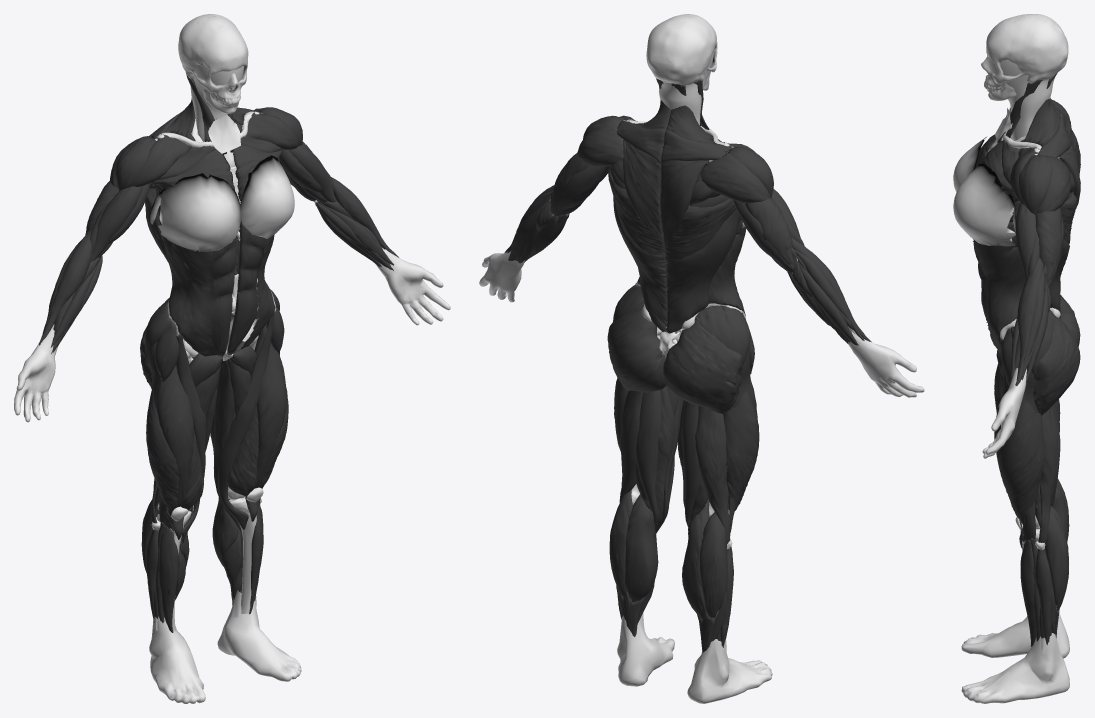
File: corpo-f-6.glb
3 renders of one model, left to right at view 1: azimuth 30°, elevation 25°; view 2: azimuth 150°, elevation 25°; view 3: azimuth 270°, elevation 25°, orthographic.
Visible parts, largest first — view 1: pele, deco, mama, quad_reto_femoral, obliquos, osso, adutores, antebraco_flexores, quad_vasto_lateral, ombro_frontal, antebraco_braquiorradial, quad_vasto_medial (+16 smaller); view 2: pele, gluteo_maximo, panturrilha_gastro, isquio_semitendineo, dorsal_inferior, trapezio_inferior, isquio_biceps_femoral, dorsal_superior, osso, antebraco_extensores, ombro_posterior, quad_vasto_lateral (+13 smaller); view 3: pele, osso, mama, deco, quad_vasto_lateral, obliquos, gluteo_maximo, panturrilha_gastro, isquio_biceps_femoral, cabeca, ombro_lateral, triceps_lateral (+22 smaller).
Boxes of the visible parts, x1,y1,x2,y2 form: pele: [14, 249, 450, 703]; deco: [146, 73, 279, 632]; mama: [150, 155, 294, 251]; quad_reto_femoral: [156, 324, 286, 539]; obliquos: [163, 234, 275, 356]; osso: [178, 14, 248, 113]; adutores: [182, 341, 256, 544]; antebraco_flexores: [50, 200, 393, 353]; quad_vasto_lateral: [146, 387, 288, 517]; ombro_frontal: [131, 111, 298, 186]; antebraco_braquiorradial: [39, 177, 398, 345]; quad_vasto_medial: [181, 406, 258, 512]; pele: [479, 251, 924, 703]; gluteo_maximo: [607, 304, 742, 414]; panturrilha_gastro: [609, 489, 727, 618]; isquio_semitendineo: [635, 386, 708, 529]; dorsal_inferior: [619, 228, 730, 333]; trapezio_inferior: [623, 140, 709, 249]; isquio_biceps_femoral: [619, 390, 730, 543]; dorsal_superior: [608, 166, 740, 257]; osso: [646, 14, 717, 90]; antebraco_extensores: [507, 191, 864, 345]; ombro_posterior: [577, 125, 770, 203]; quad_vasto_lateral: [614, 377, 759, 510]; pele: [961, 368, 1069, 703]; osso: [981, 14, 1068, 100]; mama: [953, 137, 1015, 246]; deco: [997, 79, 1059, 646]; quad_vasto_lateral: [999, 402, 1044, 540]; obliquos: [973, 222, 1025, 352]; gluteo_maximo: [1033, 295, 1080, 415]; panturrilha_gastro: [1045, 478, 1069, 610]; isquio_biceps_femoral: [1035, 399, 1060, 543]; cabeca: [987, 55, 1055, 148]; ombro_lateral: [1018, 99, 1052, 214]; triceps_lateral: [1035, 208, 1062, 283].
Bounding box in the file's own units: 1.15 × 1.65 × 0.2907.
1 material, 1 textured.
